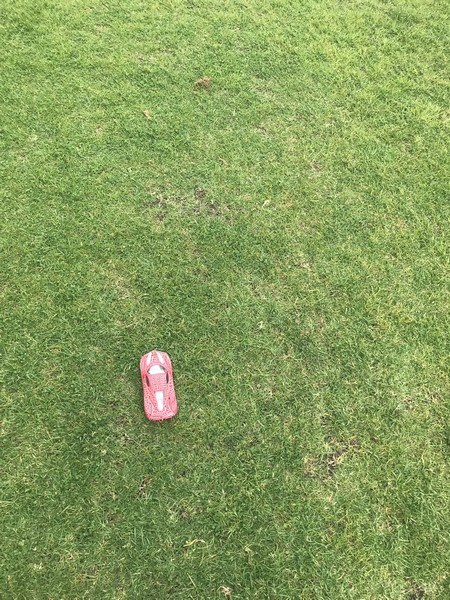RC: (138, 349, 181, 422)
